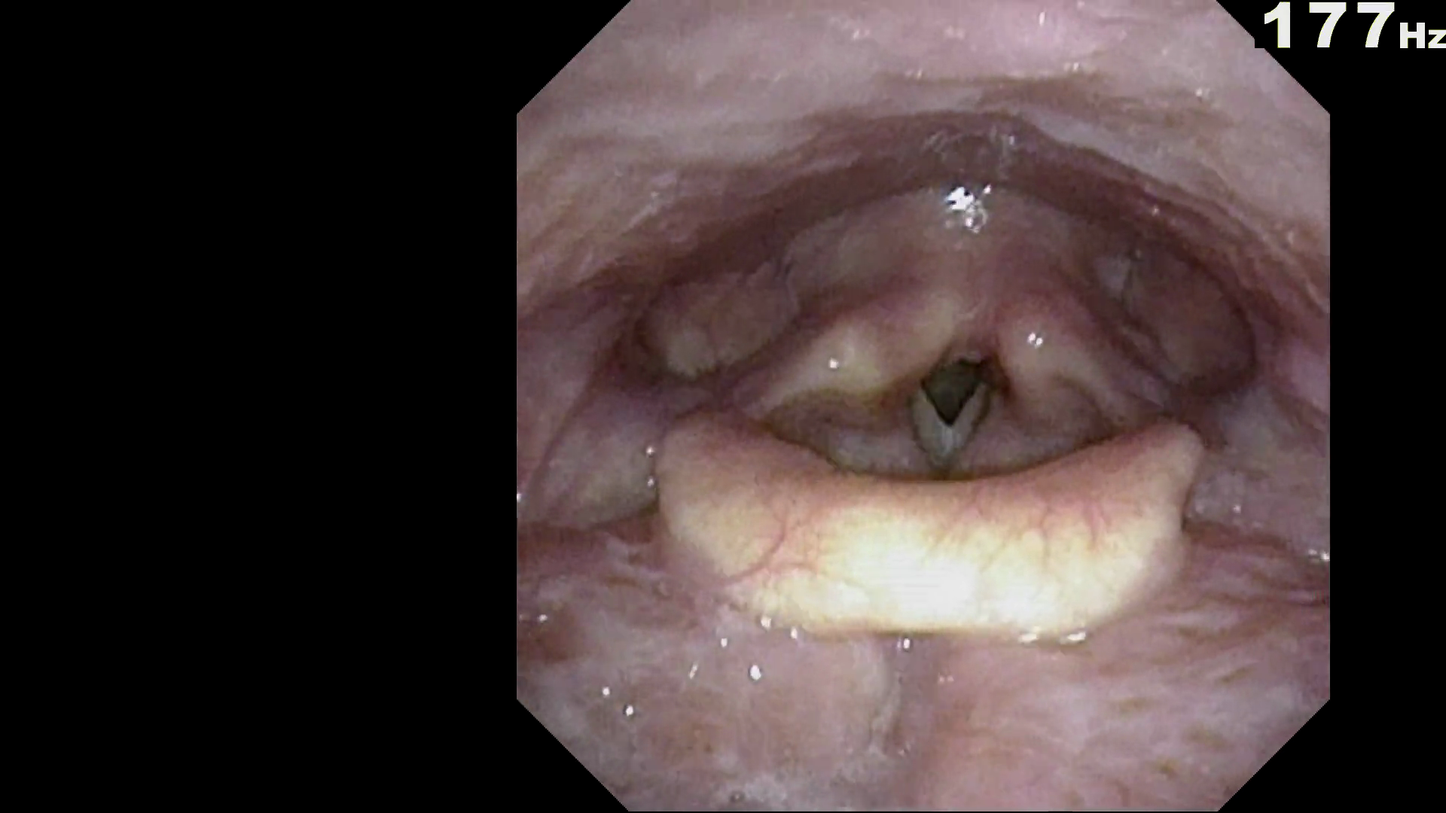epiglottis: (647, 406, 1210, 651)
trachea: (880, 289, 1035, 483)
